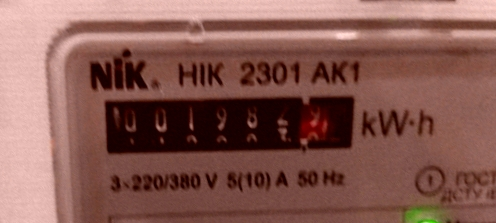0: (152, 105, 171, 135), (122, 105, 140, 135)
1: (184, 103, 198, 133)
2: (274, 98, 294, 128)
8: (244, 101, 262, 131)
9: (305, 101, 327, 131), (213, 103, 230, 133)
screen: (86, 65, 374, 185)
